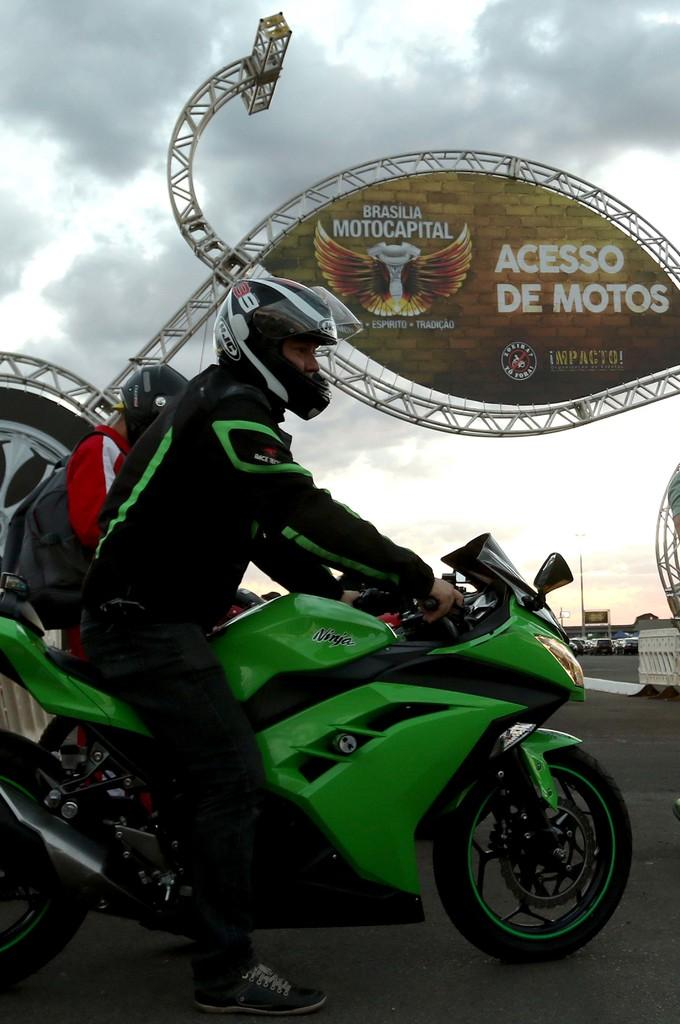helmet: (212, 277, 363, 421), (120, 363, 204, 461)
